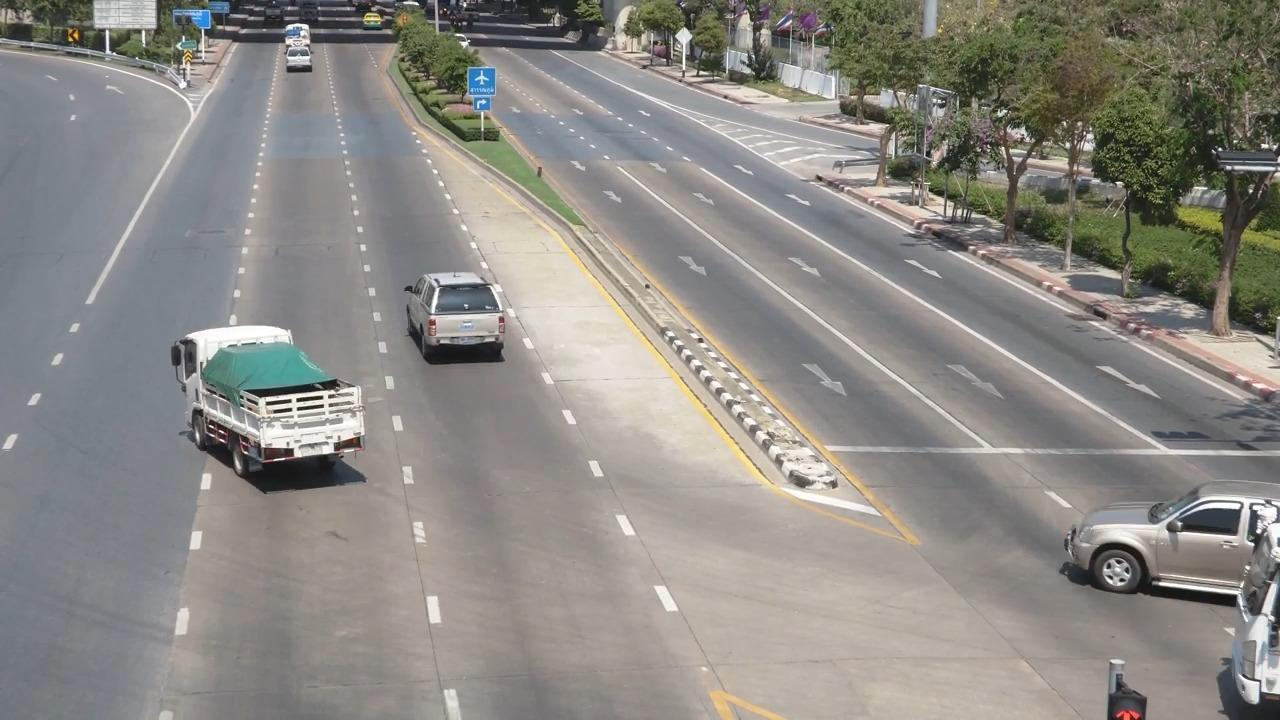CAR: (1025, 443, 1280, 599), (171, 307, 382, 495), (398, 258, 525, 362), (281, 48, 326, 83), (282, 18, 321, 54)
